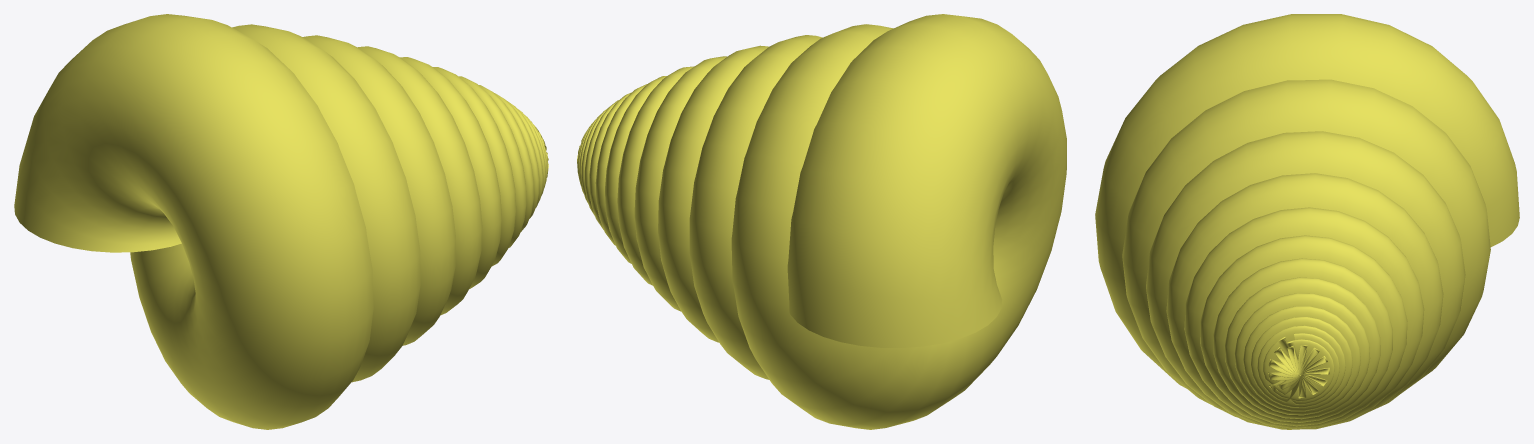
3 views of the same model, side by side, from view 1: azimuth 30°, elevation 25°; view 2: azimuth 150°, elevation 25°; view 3: azimuth 270°, elevation 25° (orthographic). The views are drawn at different scales.
Visible parts, largest first — view 1: t5; view 2: t5; view 3: t5.
Part boxes in pixels (left/top/right/bottom): t5: left=14, top=14, right=548, bottom=429; t5: left=577, top=14, right=1066, bottom=429; t5: left=1095, top=14, right=1519, bottom=429.
Size of the model in its own units: 500 by 405 by 419.
